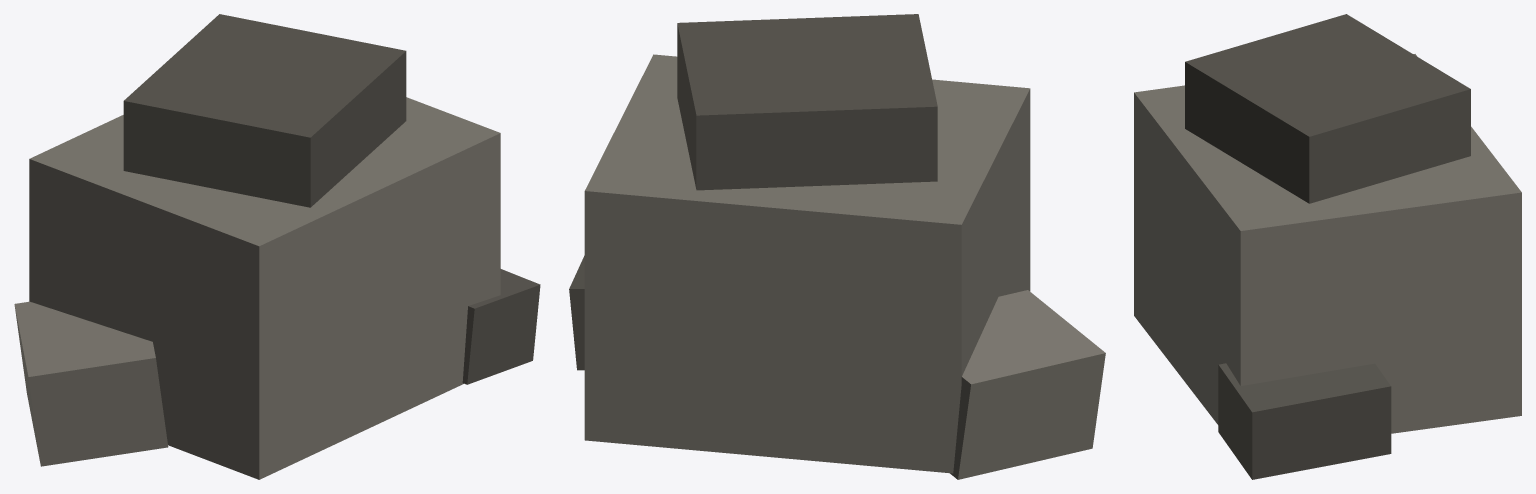
The model's file is rock.gltf.
3 views of the same model, side by side, from view 1: azimuth 30°, elevation 25°; view 2: azimuth 150°, elevation 25°; view 3: azimuth 270°, elevation 25° (orthographic). The views are drawn at different scales.
Visible parts, largest first — view 1: boulder, cap, chip_l, chip_r; view 2: boulder, cap, chip_l, chip_r; view 3: boulder, cap, chip_r.
Boxes of the visible parts, <box> form: boulder: <box>29,97,500,479</box>; cap: <box>123,14,406,207</box>; chip_l: <box>14,301,168,466</box>; chip_r: <box>462,269,540,384</box>; boulder: <box>584,54,1030,473</box>; cap: <box>677,14,937,190</box>; chip_l: <box>950,290,1105,479</box>; chip_r: <box>569,255,584,370</box>; boulder: <box>1134,54,1521,433</box>; cap: <box>1185,14,1470,203</box>; chip_r: <box>1218,363,1391,479</box>.
Bounding box in the file's own units: 0.6913 × 0.4216 × 0.4918.
Materials: 2 (2 with a texture image).
